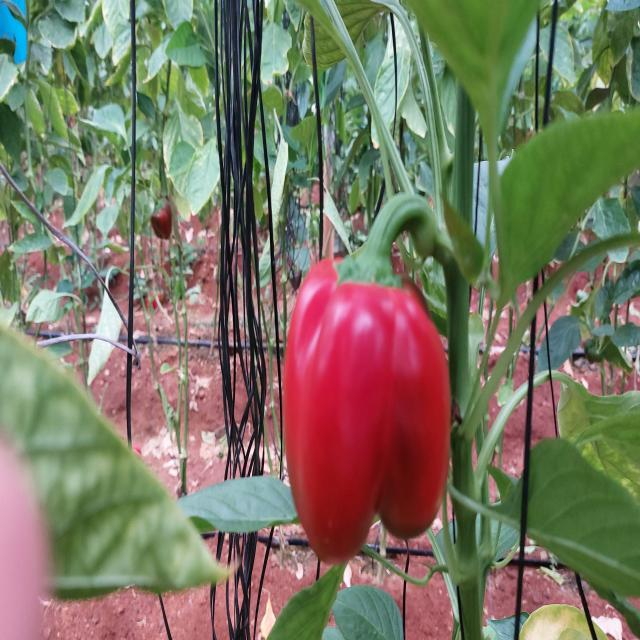Red-Ready-to-Harvest: (285, 258, 454, 565)
